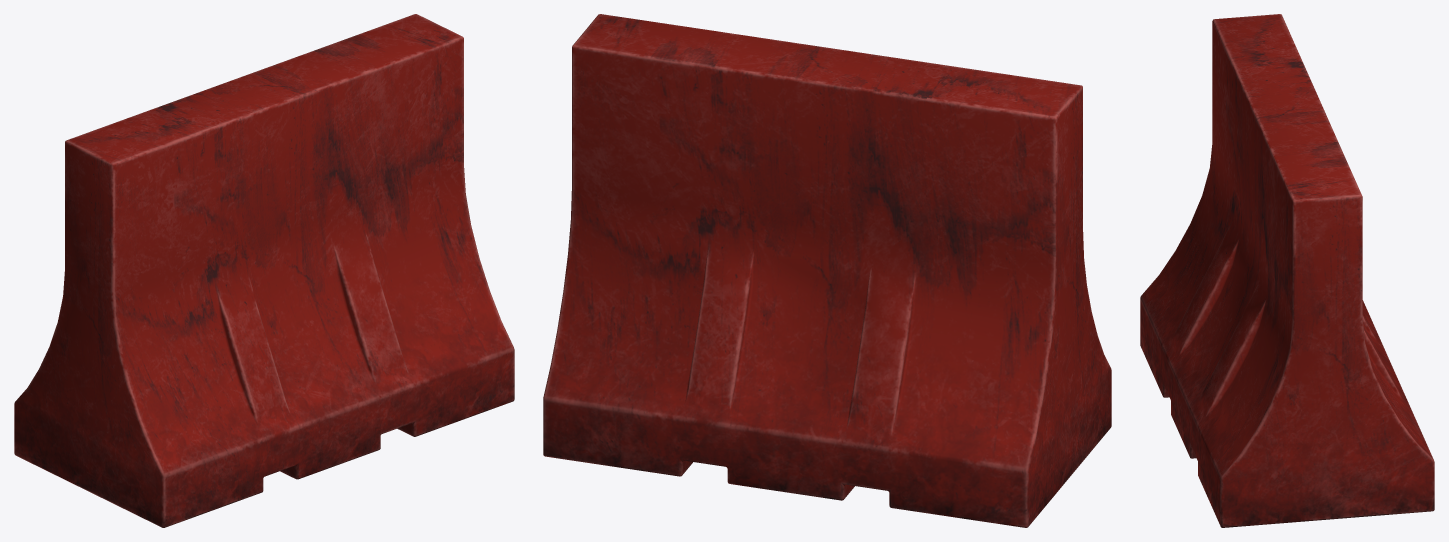
Rendered from Concret_barrier_1.glb.
The picture shows the model from 3 angles, left to right: view 1: azimuth 30°, elevation 25°; view 2: azimuth 150°, elevation 25°; view 3: azimuth 270°, elevation 25°; orthographic projection. The views are drawn at different scales.
Parts seen in each view (by area): view 1: red_barrier_Barrier_0; view 2: red_barrier_Barrier_0; view 3: red_barrier_Barrier_0.
Boxes of the visible parts, x1=… form: red_barrier_Barrier_0: x1=14, y1=14, x2=514, y2=527; red_barrier_Barrier_0: x1=543, y1=14, x2=1111, y2=527; red_barrier_Barrier_0: x1=1140, y1=14, x2=1434, y2=527.
Size of the model in its own units: 2.82 by 2.12 by 1.76.
1 material, 1 textured.
